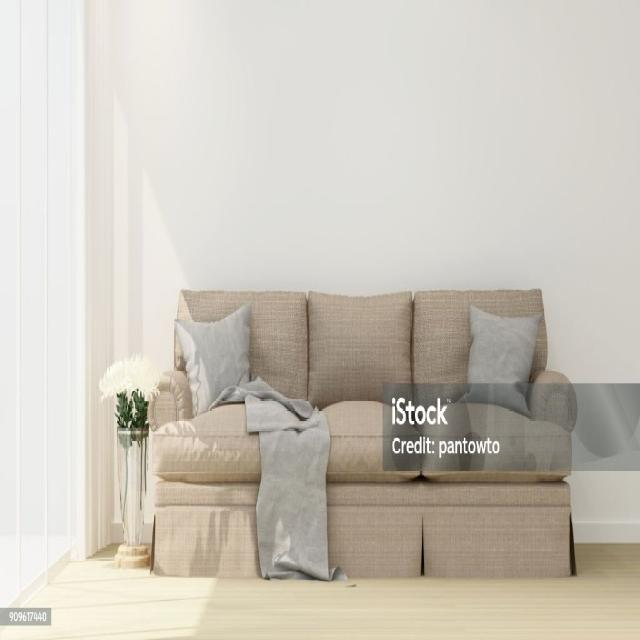back_cushion: (179, 290, 542, 408)
base: (328, 480, 568, 578), (152, 481, 261, 577)
left_arm: (528, 370, 576, 431)
right_arm: (150, 370, 192, 430)
seat_cushion: (323, 386, 571, 481), (153, 403, 260, 482)
stallion-sofa1: (149, 289, 577, 579)
